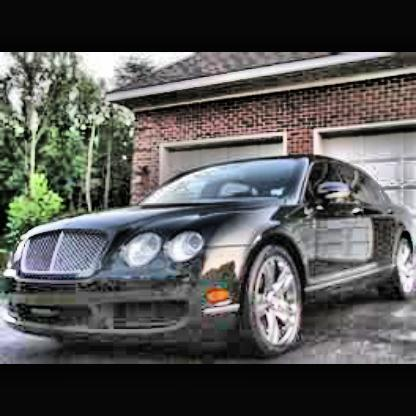Bentley Continental Flying Spur Sedan 2007: (4, 154, 416, 365)
